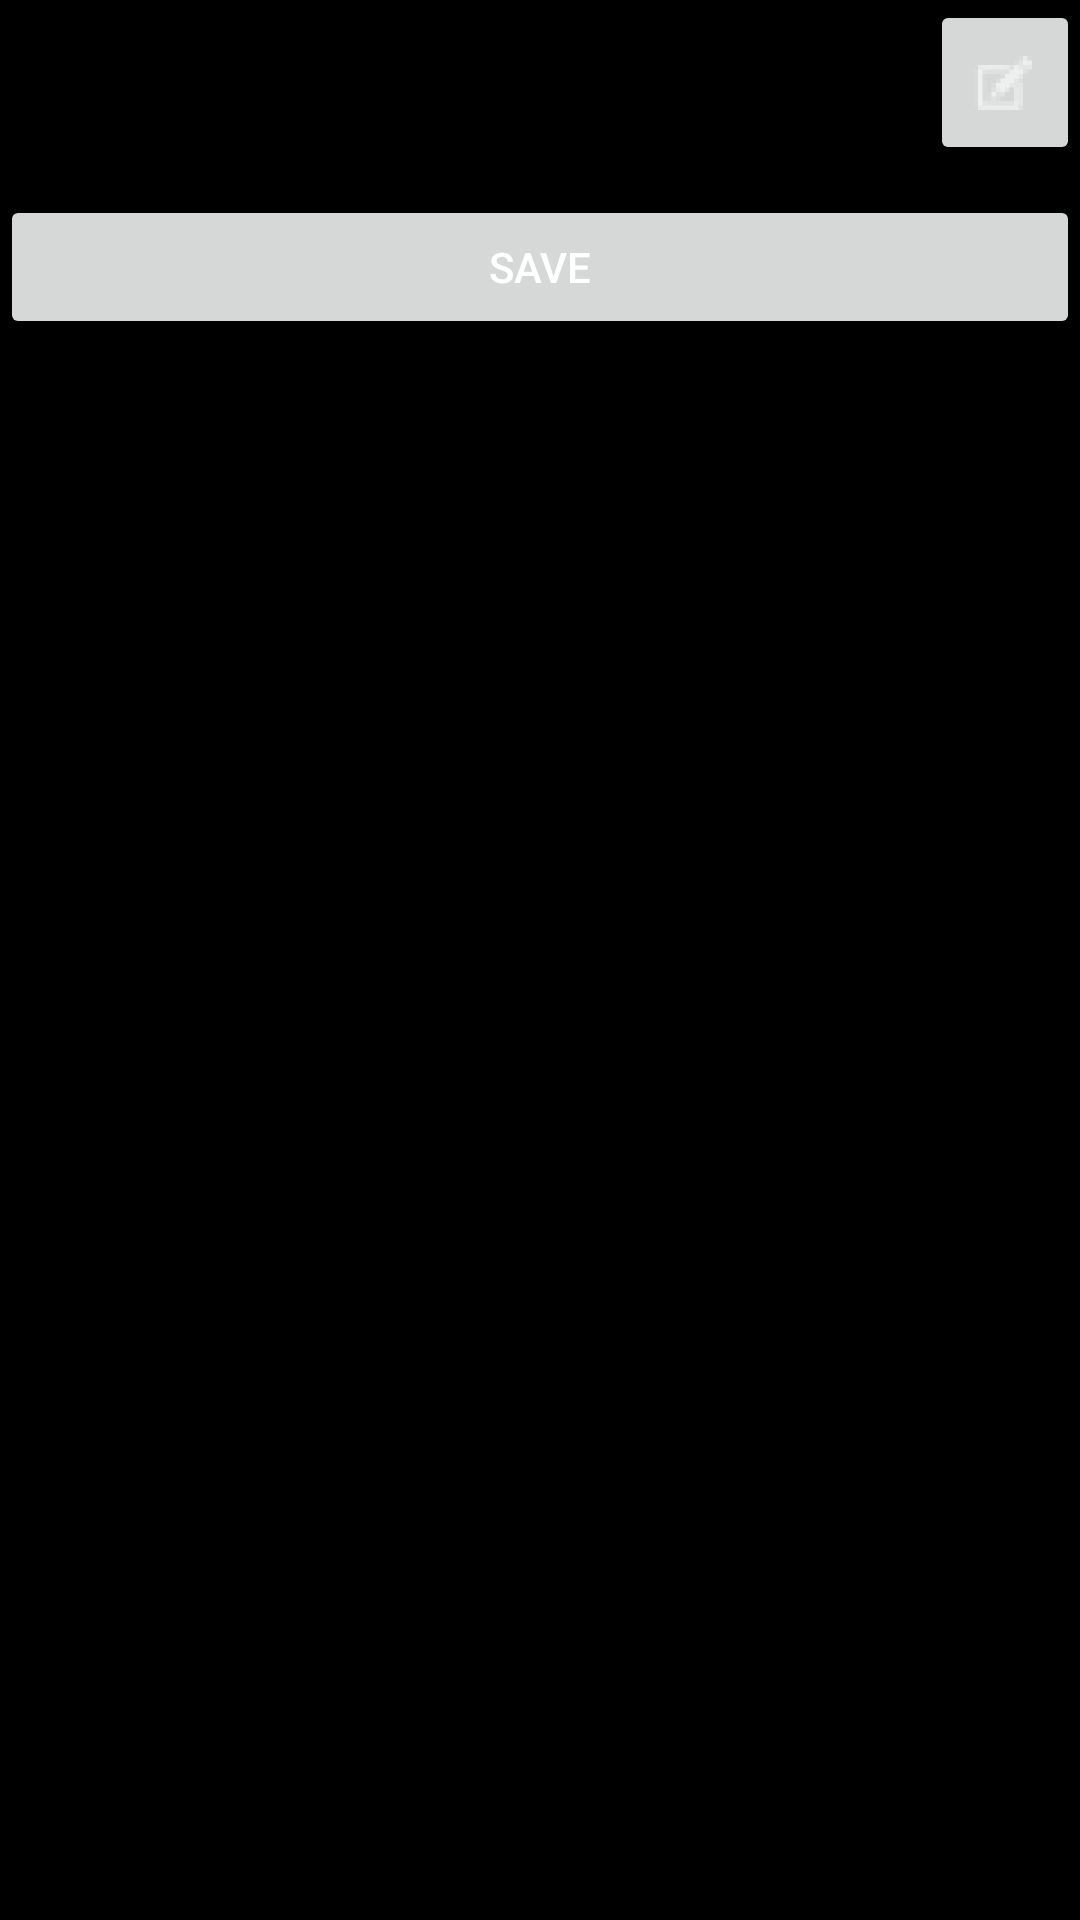

Where to tap for icons on this 1080*1920 app screen, as [x,y]:
pen: [1005,82]
